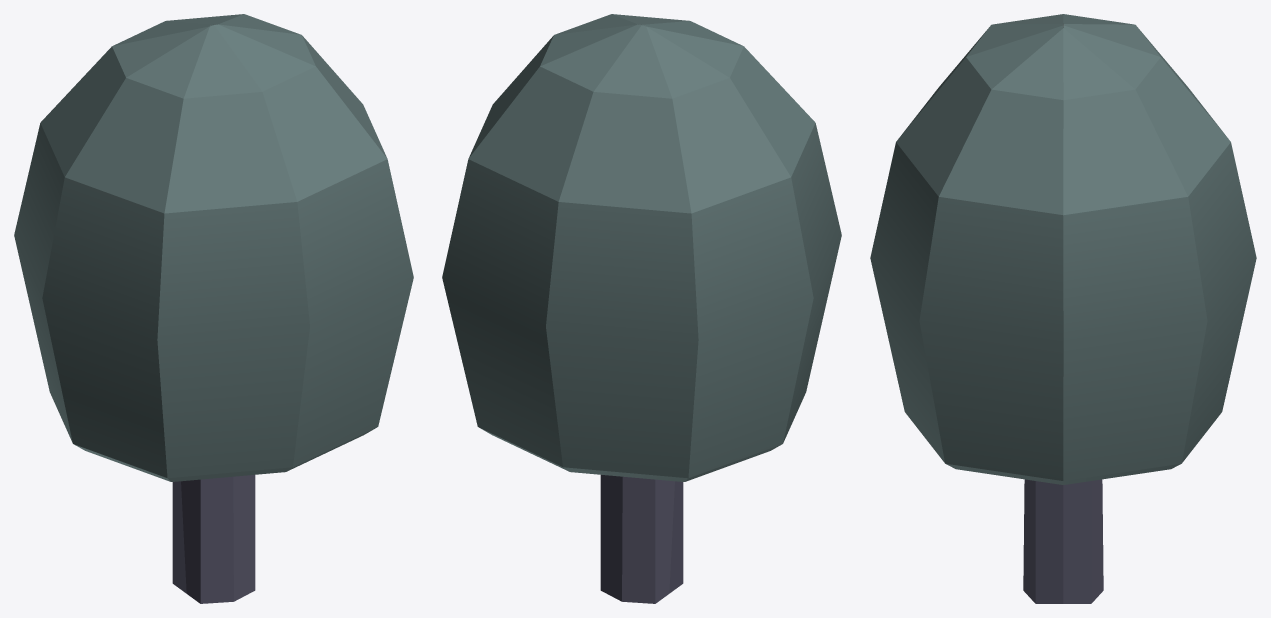
The model's file is tree2.fbx.
3 views of the same model, side by side, from view 1: azimuth 30°, elevation 25°; view 2: azimuth 150°, elevation 25°; view 3: azimuth 270°, elevation 25° (orthographic).
Visible parts, largest first — view 1: leaves2, trunk2; view 2: leaves2, trunk2; view 3: leaves2, trunk2.
Boxes of the visible parts, <box> form: leaves2: <box>14,14,413,481</box>; trunk2: <box>172,24,255,603</box>; leaves2: <box>442,14,841,481</box>; trunk2: <box>600,475,683,603</box>; leaves2: <box>870,14,1256,484</box>; trunk2: <box>1023,23,1103,603</box>.
Bounding box in the file's own units: 207 × 324 × 200.
